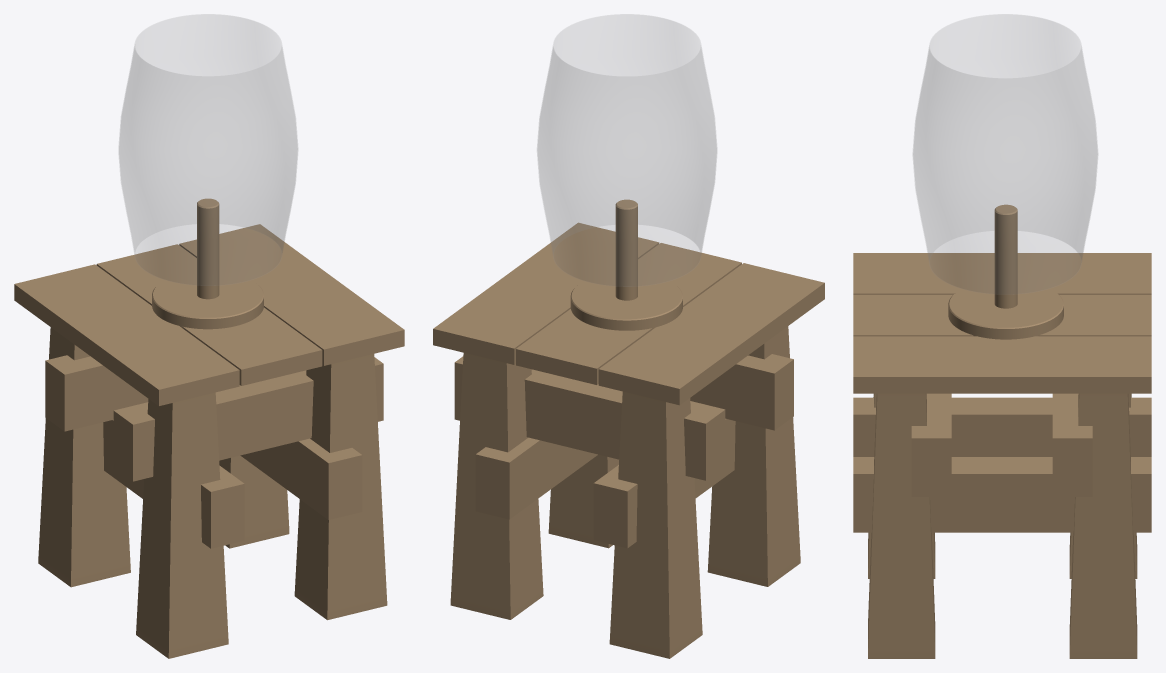
The model's file is Comode3DModel.fbx.
3 renders of one model, left to right at view 1: azimuth 30°, elevation 25°; view 2: azimuth 150°, elevation 25°; view 3: azimuth 270°, elevation 25°, orthographic. The views are drawn at different scales.
Parts seen in each view (by area): view 1: Tab_leg_008, Lmp_pad; view 2: Tab_leg_008, Lmp_pad; view 3: Tab_leg_008, Lmp_pad.
Boxes of the visible parts, x1,y1,x2,y2 form: Tab_leg_008: (14, 224, 404, 658); Lmp_pad: (119, 14, 297, 329); Tab_leg_008: (433, 222, 824, 658); Lmp_pad: (537, 14, 716, 330); Tab_leg_008: (853, 253, 1151, 658); Lmp_pad: (913, 14, 1097, 339).
Bounding box in the file's own units: 40.38 × 82.2 × 39.98.
